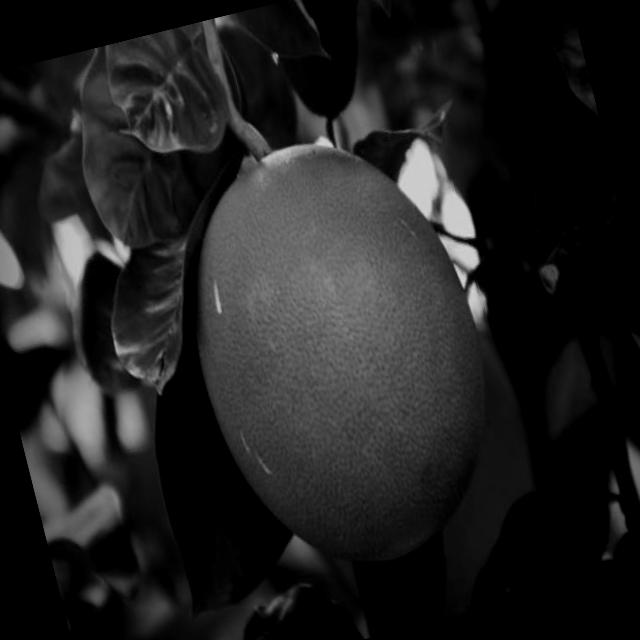Unripe: (149, 105, 526, 596)
